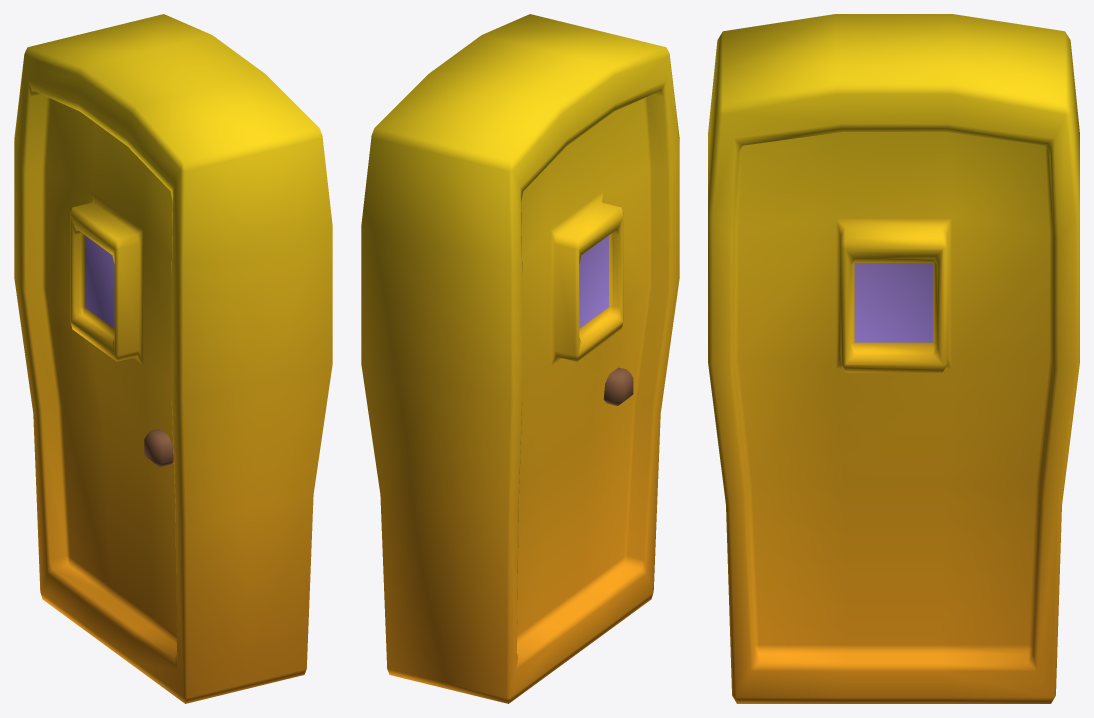
Rendered from Door_Yellow.fbx.
3 views of the same model, side by side, from view 1: azimuth 30°, elevation 25°; view 2: azimuth 150°, elevation 25°; view 3: azimuth 270°, elevation 25° (orthographic). The views are drawn at different scales.
Visible parts, largest first — view 1: Door_Yellow; view 2: Door_Yellow; view 3: Door_Yellow.
Boxes of the visible parts, left/top/right/bottom form: Door_Yellow: left=14, top=14, right=332, bottom=703; Door_Yellow: left=361, top=14, right=679, bottom=703; Door_Yellow: left=708, top=14, right=1079, bottom=703.
Size of the model in its own units: 127 by 425 by 230.
